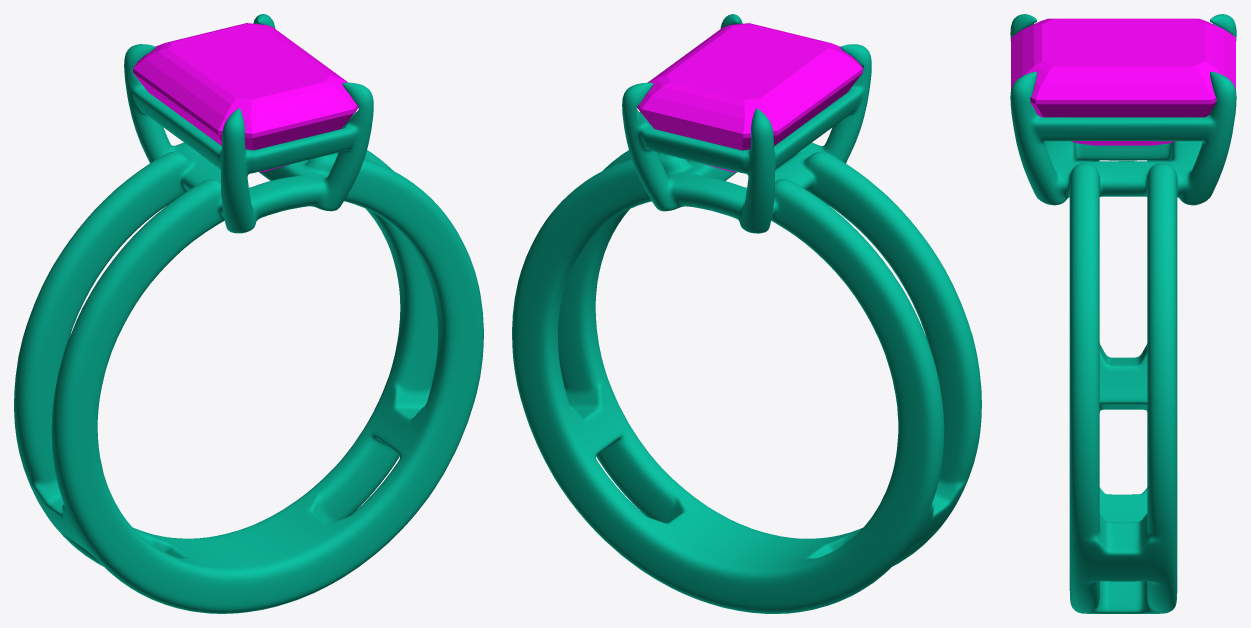
The model's file is BE14122_EM_200ct_RENDER.glb.
3 renders of one model, left to right at view 1: azimuth 30°, elevation 25°; view 2: azimuth 150°, elevation 25°; view 3: azimuth 270°, elevation 25°, orthographic. The views are drawn at different scales.
Parts seen in each view (by area): view 1: Metal 01, CS_Diamond_Emerald; view 2: Metal 01, CS_Diamond_Emerald; view 3: Metal 01, CS_Diamond_Emerald.
Boxes of the visible parts, bbox=[...] form: Metal 01: bbox=[14, 14, 483, 613]; CS_Diamond_Emerald: bbox=[133, 23, 358, 172]; Metal 01: bbox=[512, 14, 981, 613]; CS_Diamond_Emerald: bbox=[637, 23, 862, 172]; Metal 01: bbox=[1010, 14, 1236, 613]; CS_Diamond_Emerald: bbox=[1011, 18, 1235, 145].
Bounding box in the file's own units: 20.38 × 24.18 × 9.05.
